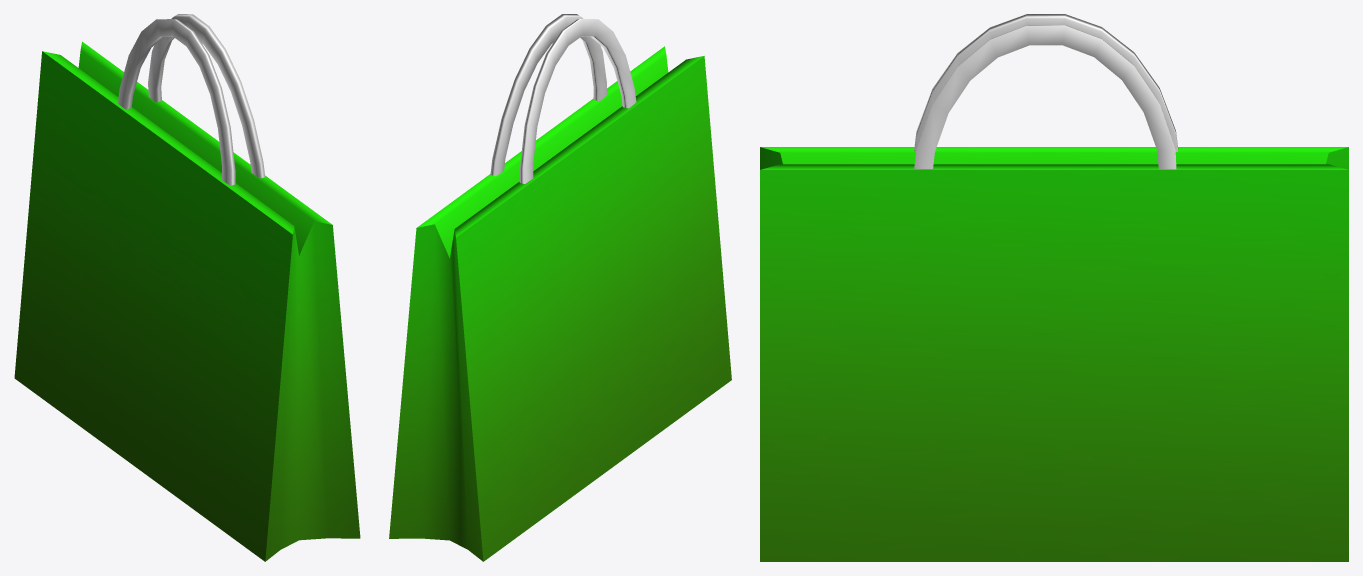
The model's file is PRP_Bag_7.fbx.
3 renders of one model, left to right at view 1: azimuth 30°, elevation 25°; view 2: azimuth 150°, elevation 25°; view 3: azimuth 270°, elevation 25°, orthographic. The views are drawn at different scales.
Visible parts, largest first — view 1: PRP_Bag_7; view 2: PRP_Bag_7; view 3: PRP_Bag_7.
Part boxes in pixels (x1,y1,x2,y2): PRP_Bag_7: (14,14,360,561); PRP_Bag_7: (389,14,731,561); PRP_Bag_7: (760,14,1348,561).
Size of the model in its own units: 15.58 by 68.56 by 71.05.
